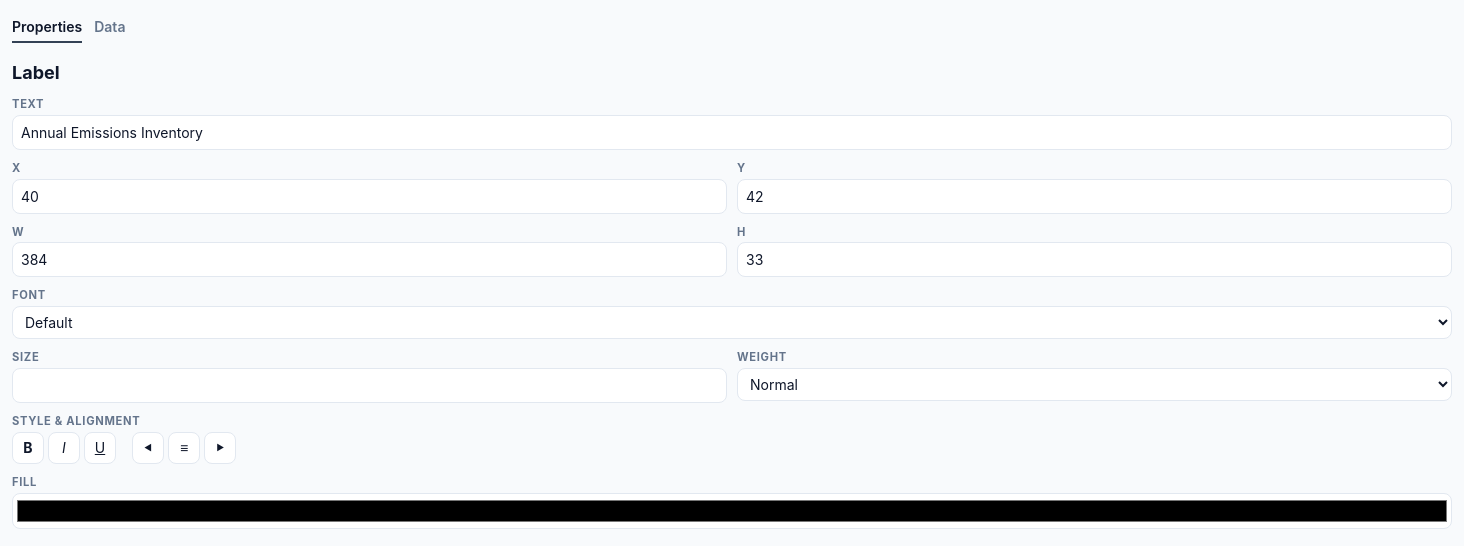
Scenario: PropertiesPanel › notes when a selected element has no data binding
Click the tab "Data": (110, 28) [94, 12, 125, 43]
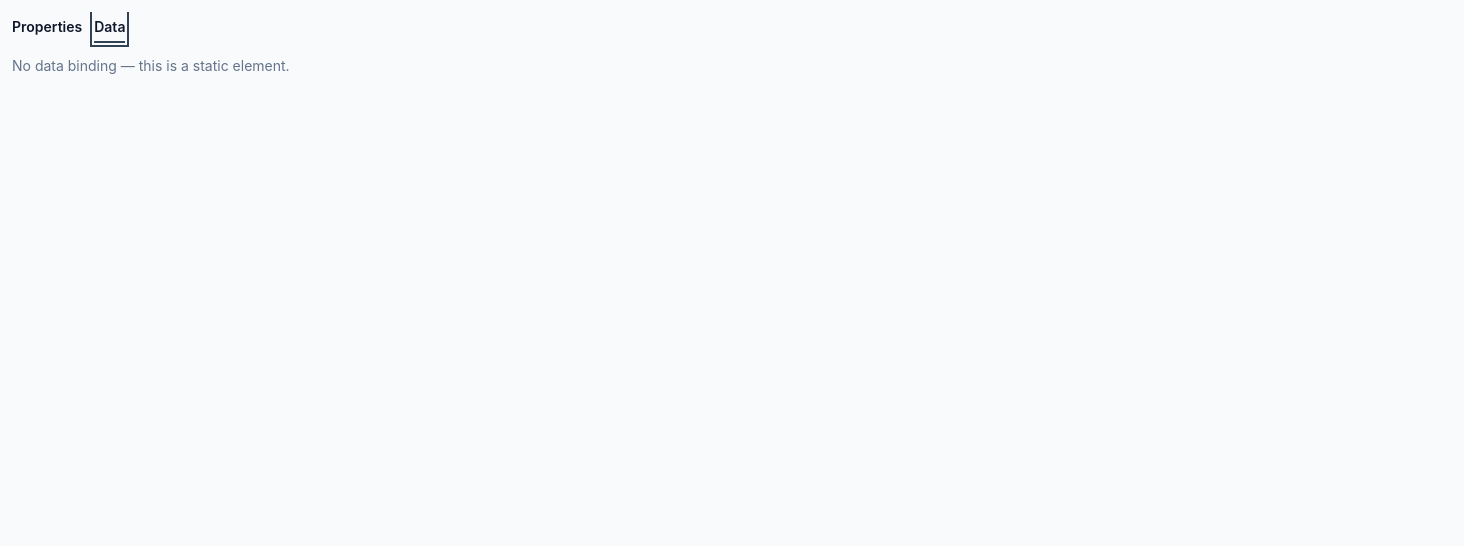
Now the text "No data binding — this is a static element." is shown, box [12, 57, 290, 74]
